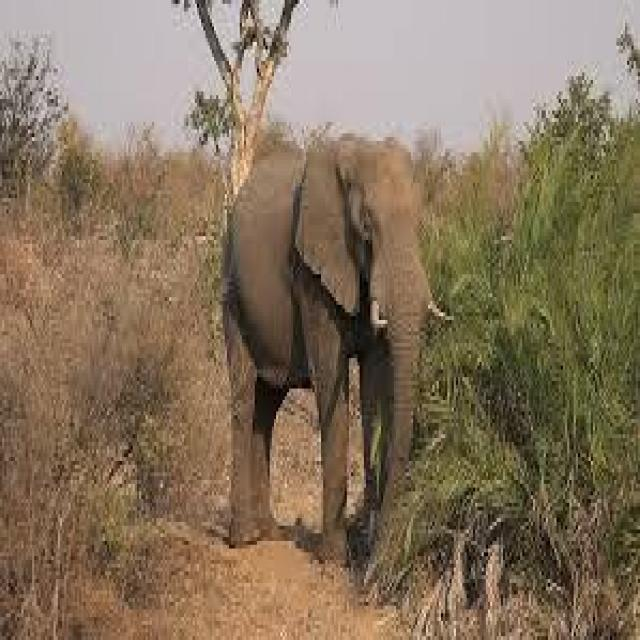Elephant: (222, 133, 423, 537)
